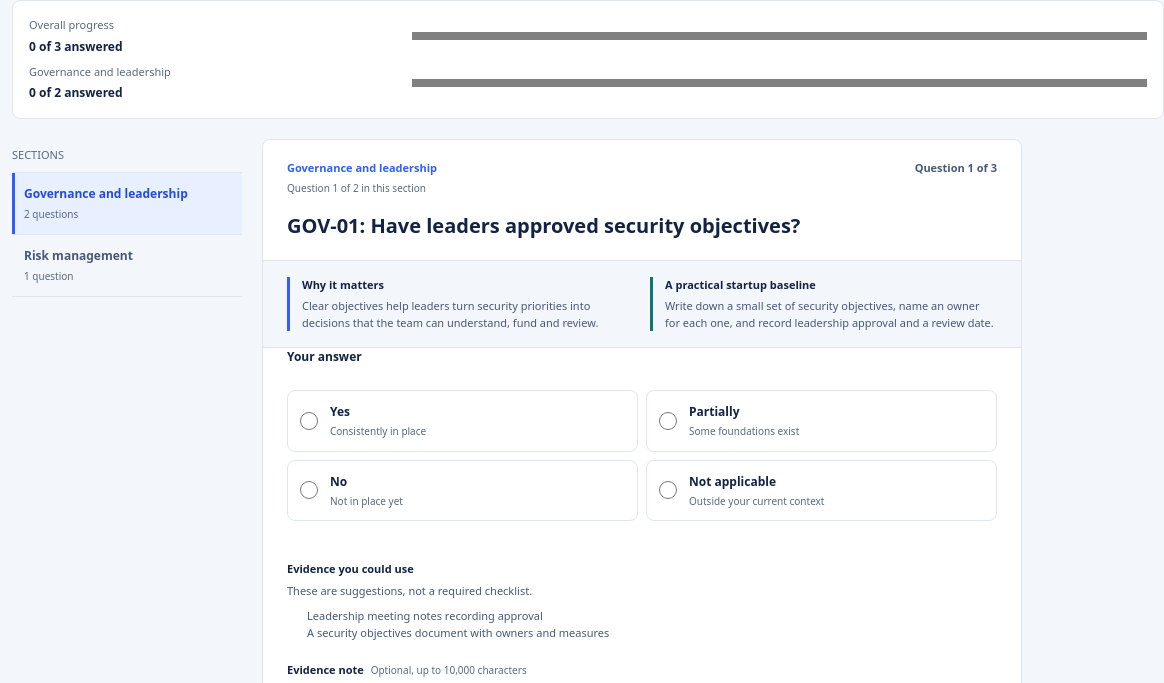
AssessmentResponseList guided flow › explains the consequence of choosing No
The image size is (1164, 683).
What coordinates should you click on to do the following:
click the radio button labelled "No"
I would click on:
 (309, 490)
Its box is [300, 481, 318, 499].
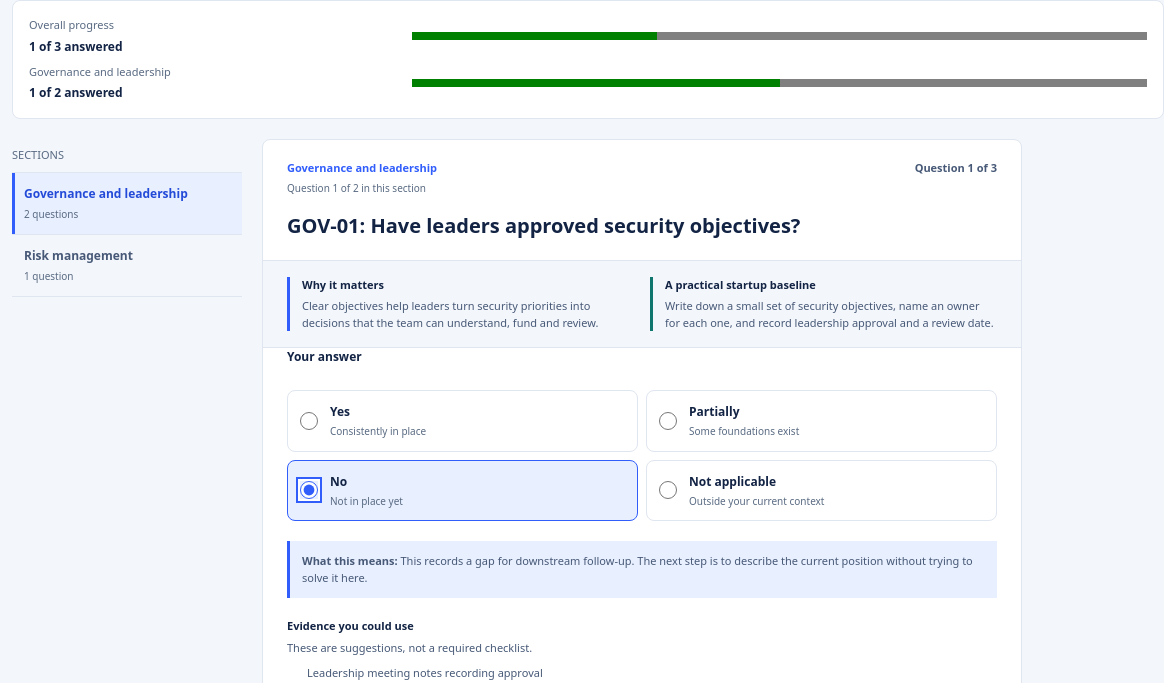
Expected: the heading "GOV-01: Have leaders approved security objectives?" is shown, [287, 212, 800, 238]
Expected: the message named "Answer consequence" shows "gap", [302, 553, 973, 585]
